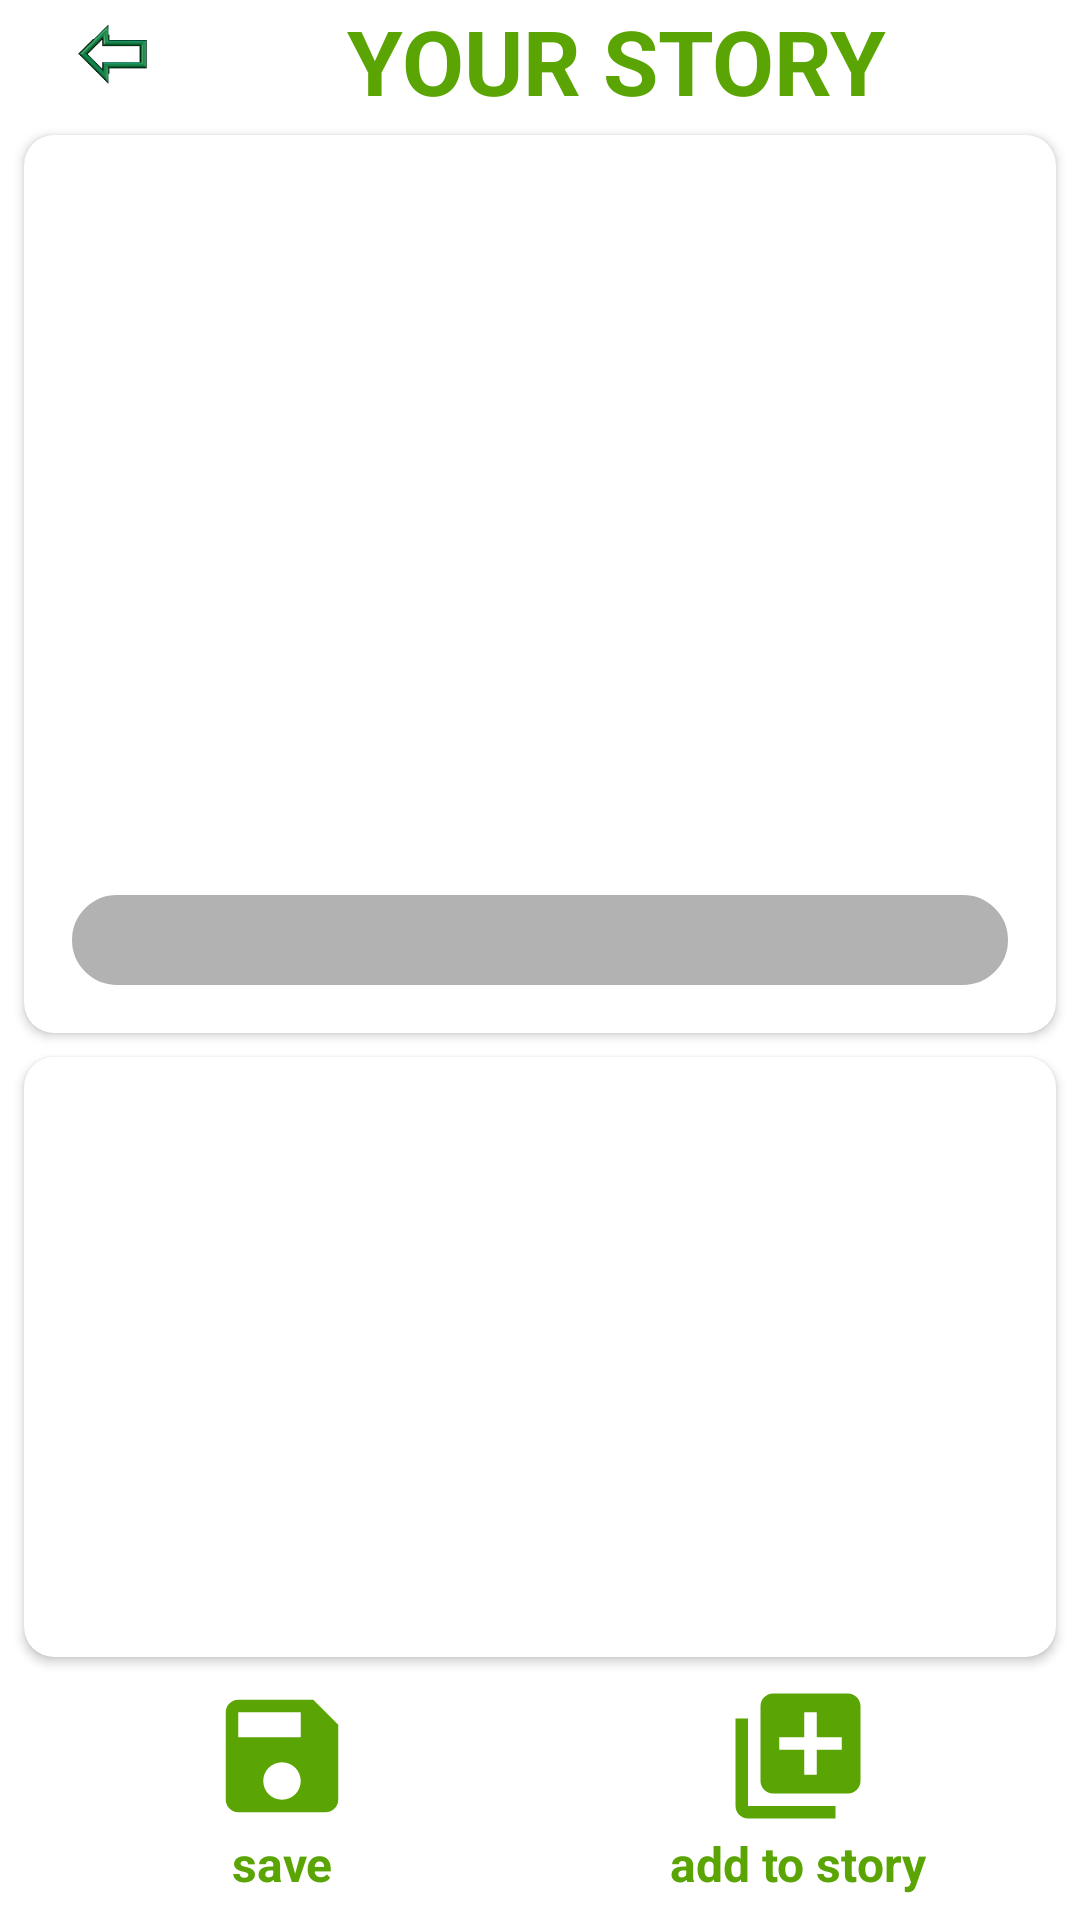

Icons on this 1080px×1920px Android screen, each with its box as BBox(x1, y1, x2, y2):
add to photos: BBox(735, 1693, 861, 1819)
backnote: BBox(78, 25, 147, 84)
